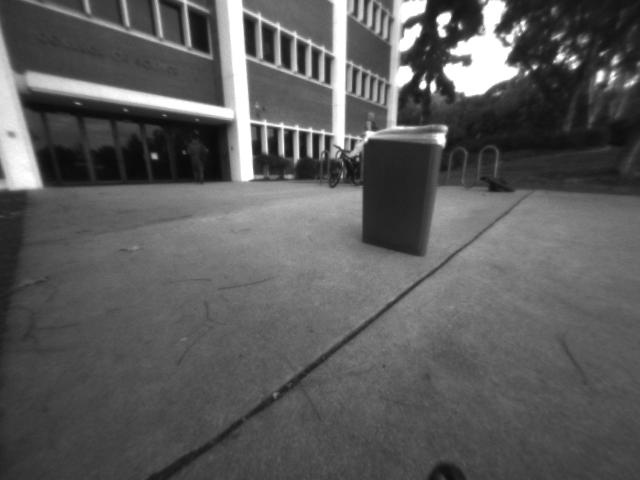trashcan: (356, 117, 450, 265)
